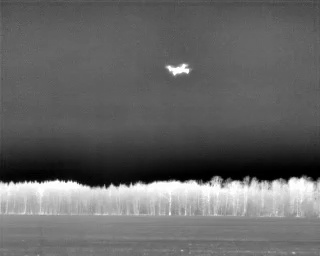DRONE: (162, 58, 196, 81)
